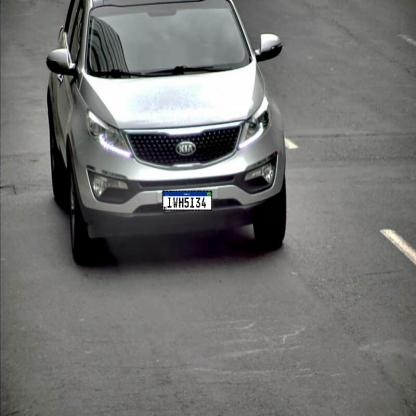PlacaM: (162, 190, 212, 210)
